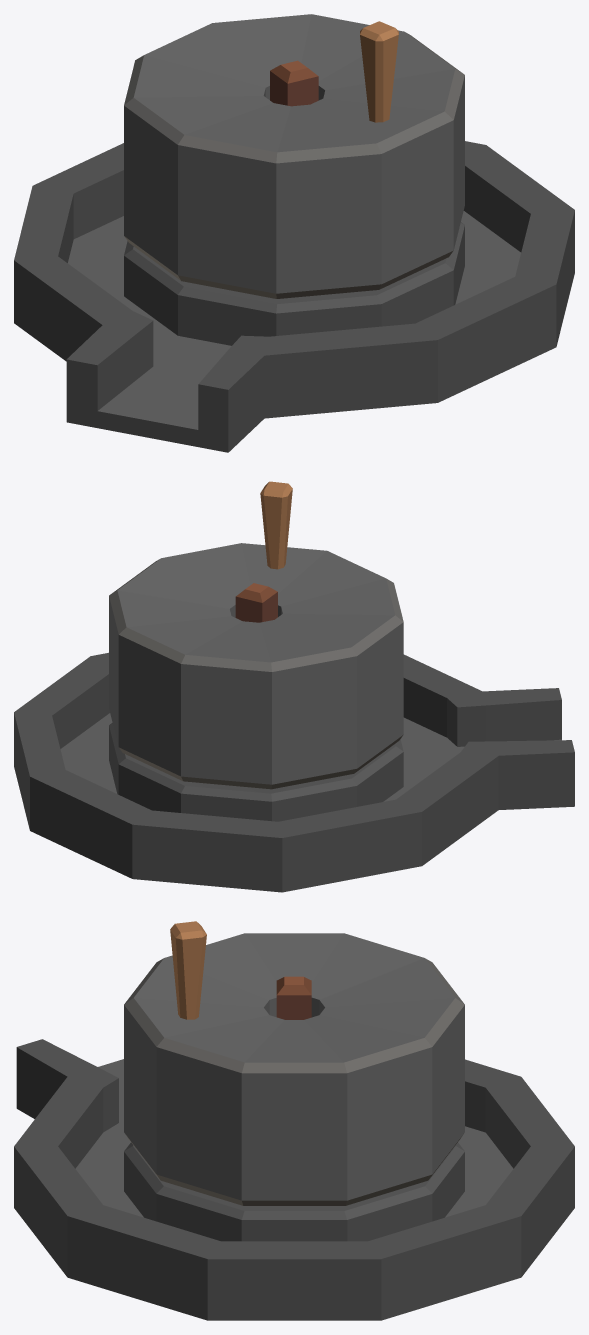
File: millstone.fbx
3 renders of one model, top to bottom at view 1: azimuth 30°, elevation 25°; view 2: azimuth 150°, elevation 25°; view 3: azimuth 270°, elevation 25°, orthographic. The views are drawn at different scales.
Parts seen in each view (by area): view 1: millstone_down, millstone_up; view 2: millstone_down, millstone_up; view 3: millstone_down, millstone_up.
Boxes of the visible parts, <box> form: millstone_down: <box>14,60,574,452</box>; millstone_up: <box>124,14,464,298</box>; millstone_down: <box>14,583,574,892</box>; millstone_up: <box>109,481,403,789</box>; millstone_down: <box>14,976,574,1320</box>; millstone_up: <box>124,921,464,1205</box>.
Size of the model in its own units: 99.66 by 53.84 by 92.6.
